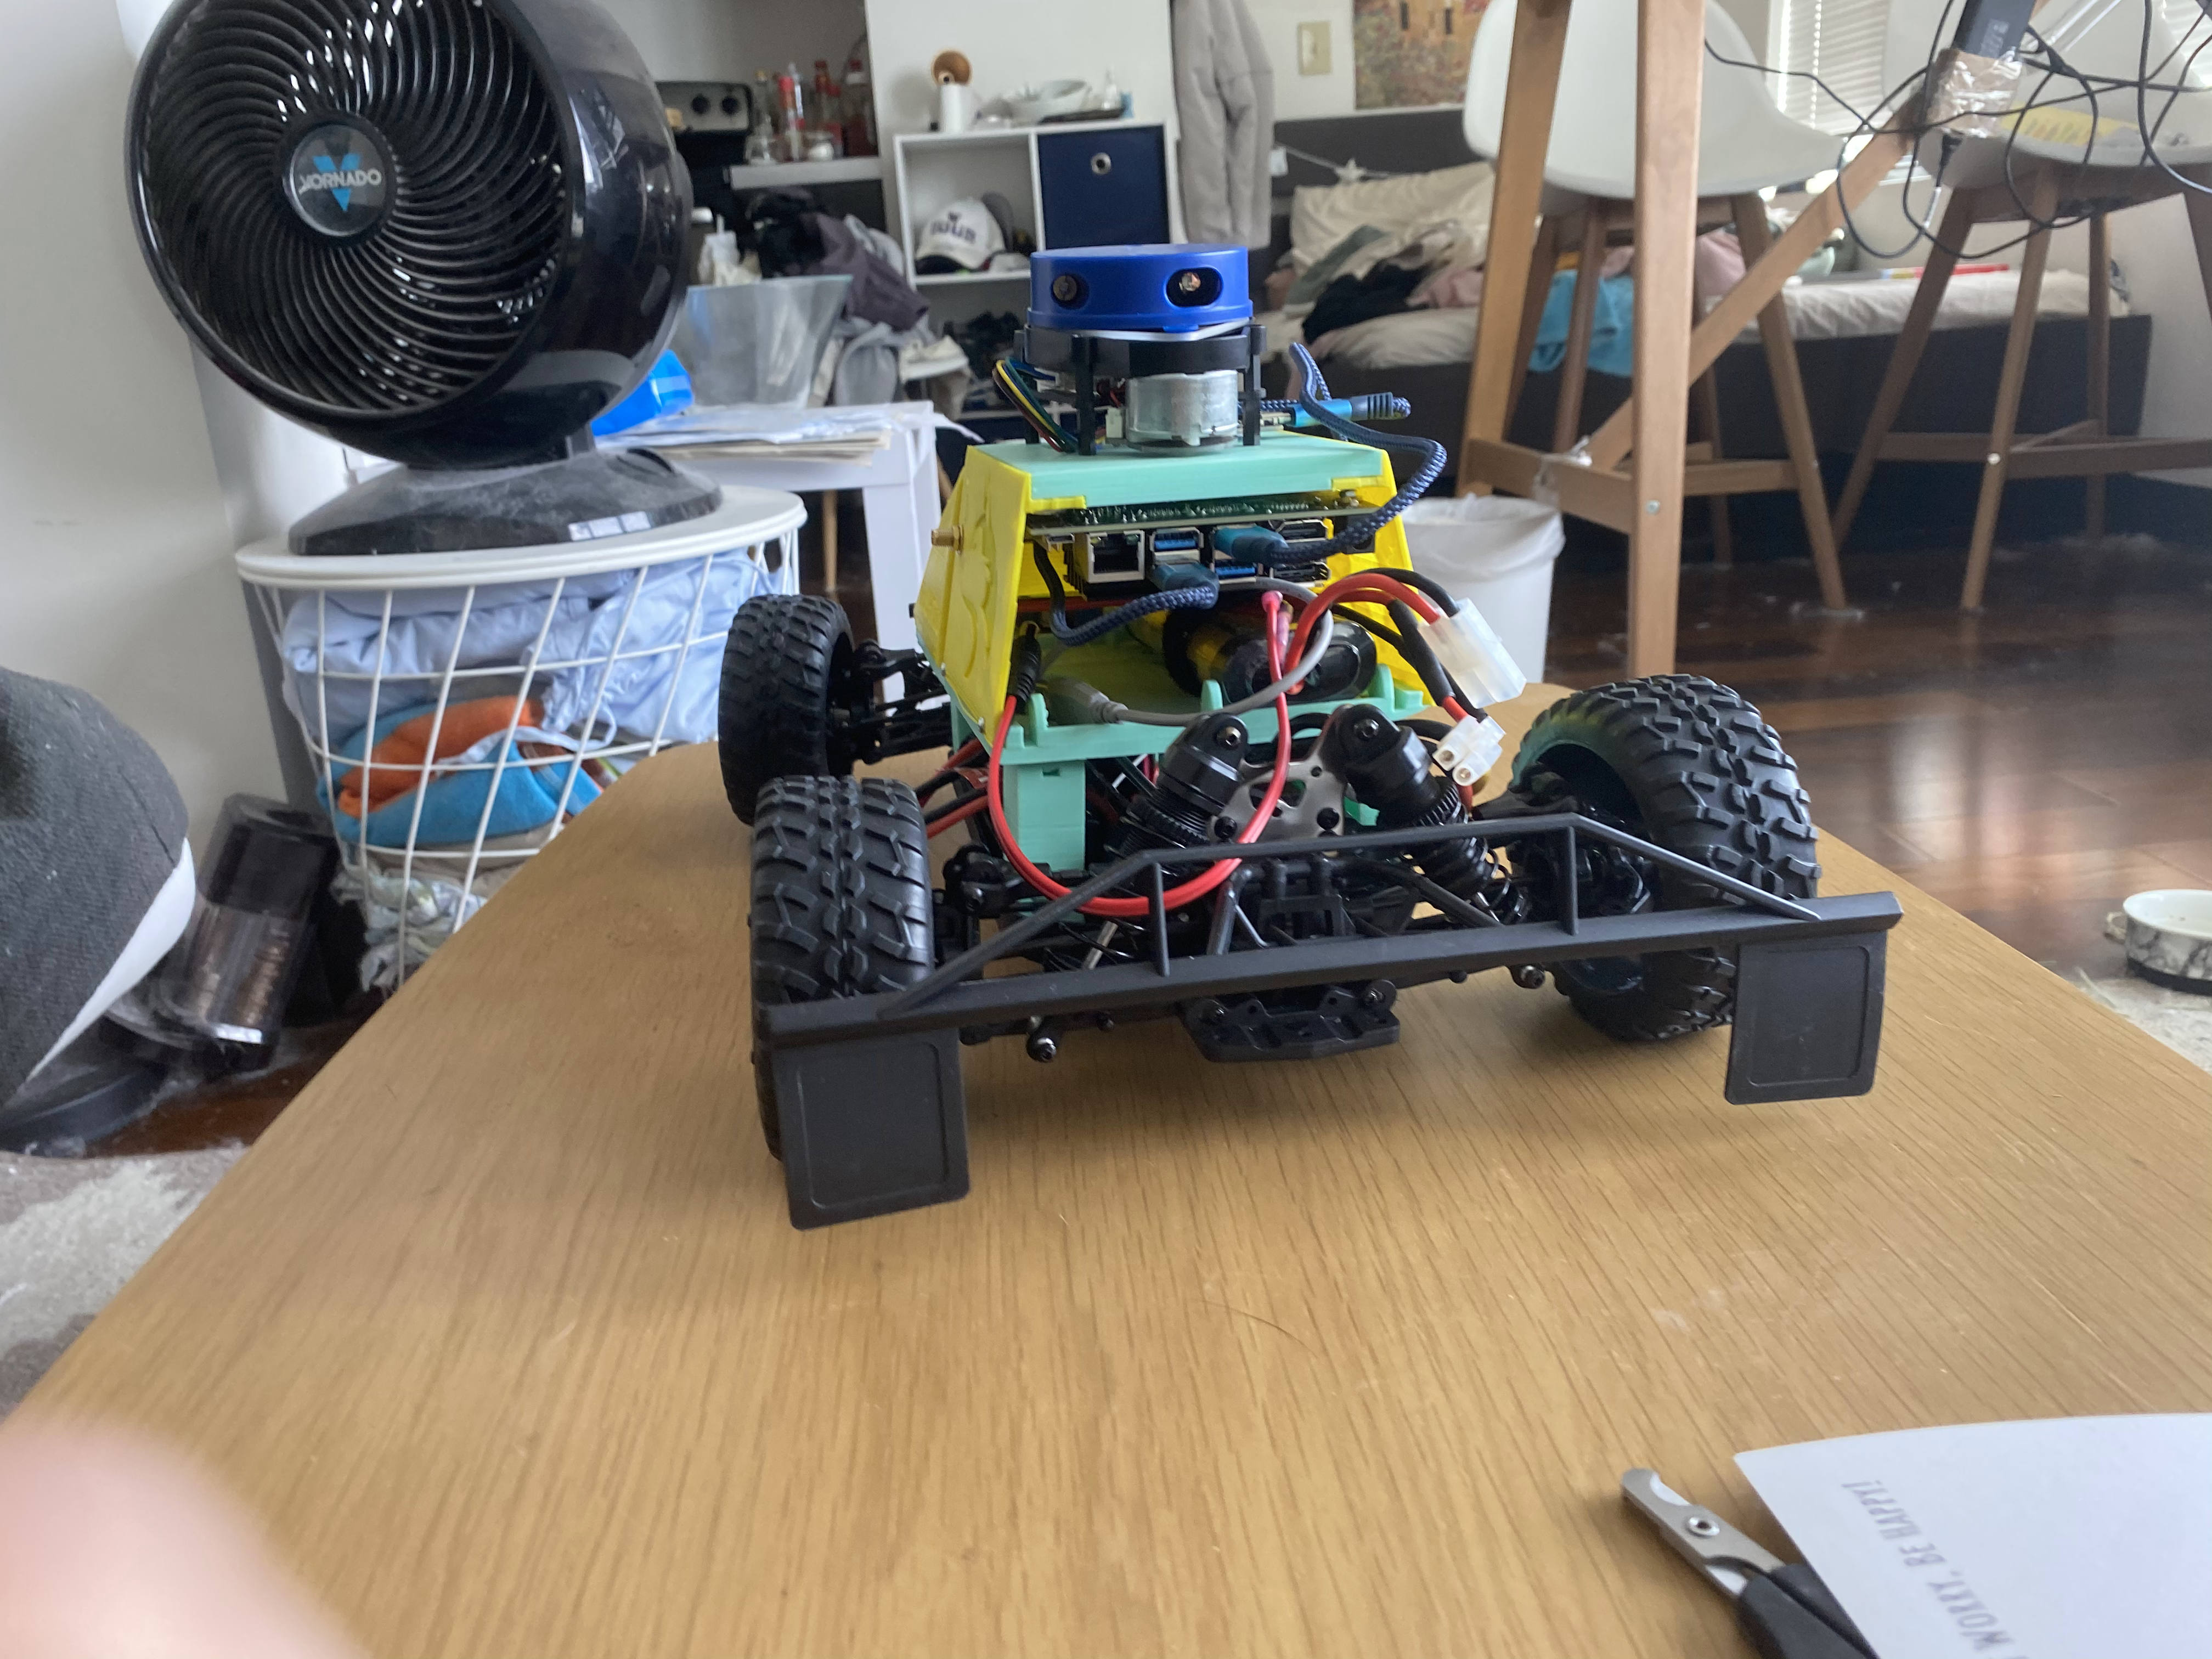mushr_car: (690, 249, 1914, 1262)
